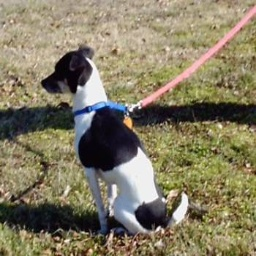dog: (40, 42, 191, 237)
